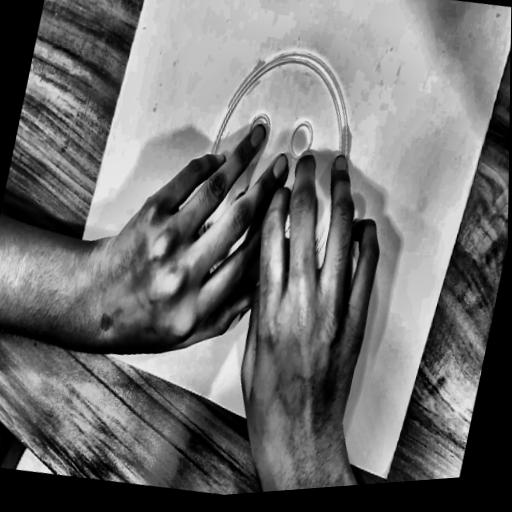bottom_left: (59, 321, 68, 334)
bottom_right: (381, 467, 393, 483)
button: (163, 27, 385, 345)
